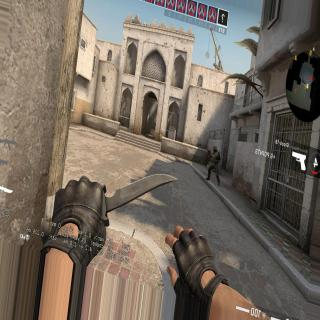CT-Body: (206, 142, 222, 185)
CT-Head: (212, 142, 218, 152)
